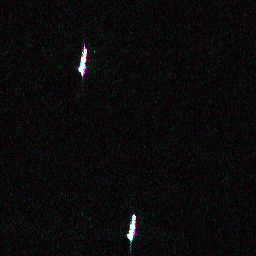ship: (76, 47, 91, 76), (125, 213, 138, 242)
